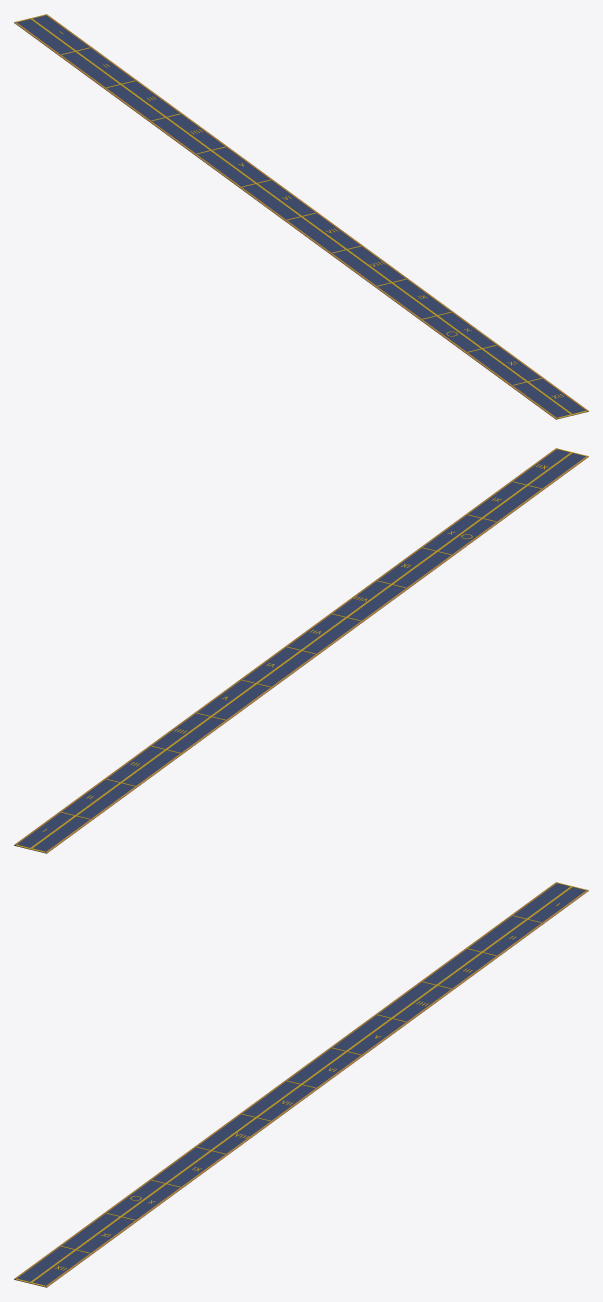
File: prop_of_meridian_line.glb
3 views of the same model, one above another, from view 1: azimuth 30°, elevation 25°; view 2: azimuth 150°, elevation 25°; view 3: azimuth 330°, elevation 25° (orthographic).
Parts seen in each view (by area): view 1: Meridian; view 2: Meridian; view 3: Meridian.
Boxes of the visible parts, left/top/right/bottom form: Meridian: left=14, top=14, right=588, bottom=419; Meridian: left=14, top=448, right=588, bottom=853; Meridian: left=14, top=882, right=588, bottom=1287.
Bounding box in the file's own units: 0.508 × 0.0145 × 14.41.
